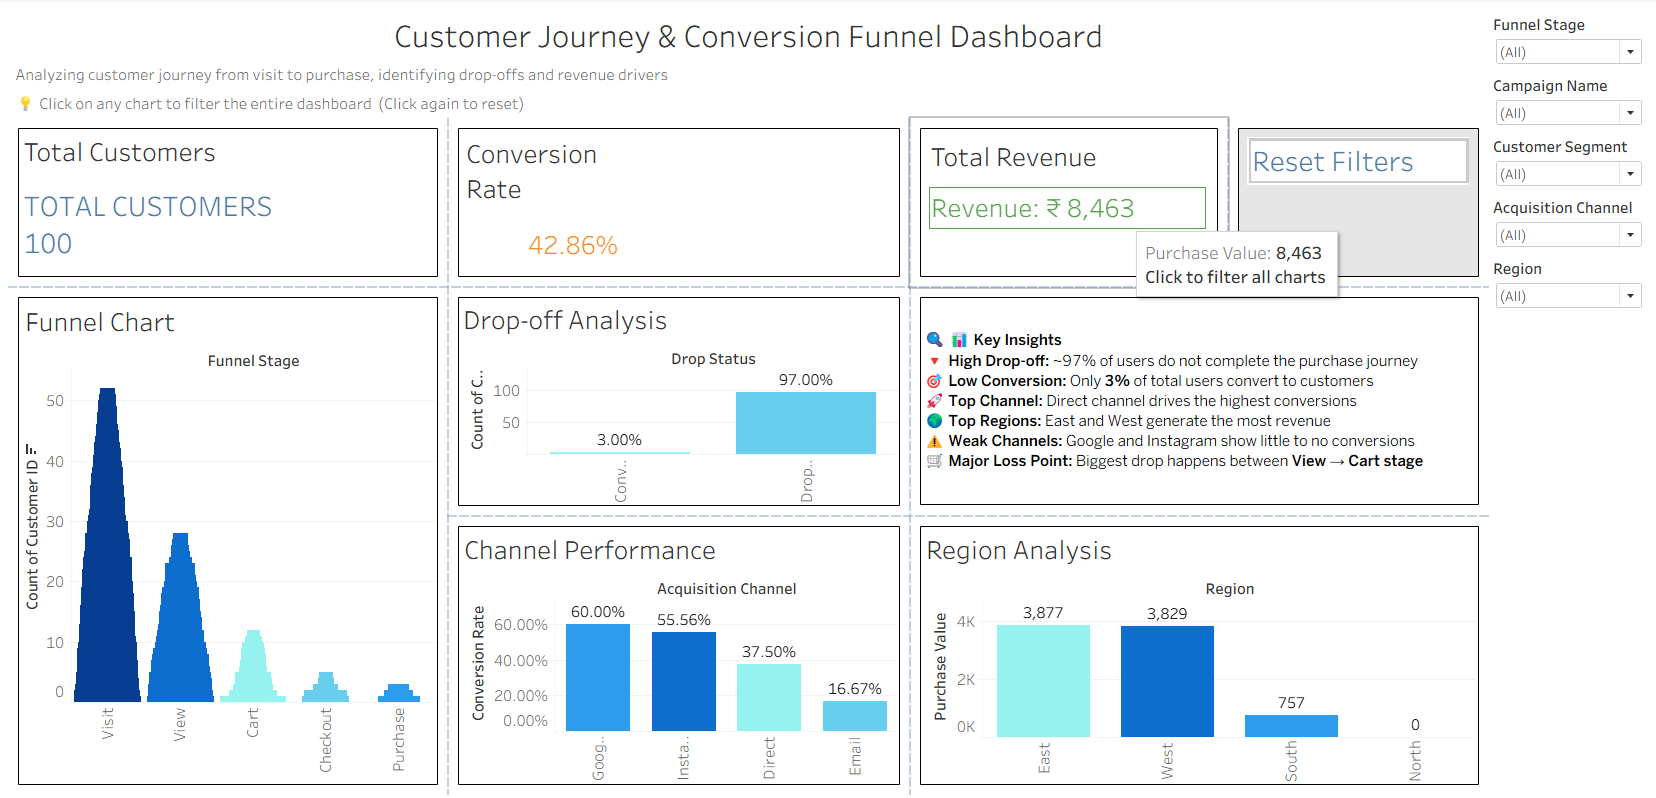

The dashboard page shown, as its layout file describes it:
{"tool":"tableau","page":{"name":"Customer Journey & Conversion Funnel Dashboard","canvas":[1000,1000],"units":"permille","ordinal":0},"visuals":[{"type":"title","box":[4.8,10,893.8,62.4]},{"type":"filter","title":"Conversion Rate","param":"[federated.0fj2pal03l06va1h0yqg00qhf47u].[none:Funnel Stage:nk]","box":[898.6,10,96.6,76.2]},{"type":"text","box":[4.8,72.4,893.8,36.2]},{"type":"filter","title":"Conversion Rate","param":"[federated.0fj2pal03l06va1h0yqg00qhf47u].[none:Campaign Name:nk]","box":[898.6,86.2,96.6,76.2]},{"type":"text","box":[4.8,108.6,893.8,36.2]},{"type":"worksheet","title":"Total Customers","mark":"Text","box":[4.8,144.8,265.8,211.6]},{"type":"worksheet","title":"Conversion Rate","mark":"Automatic","box":[270.6,144.8,278.6,211.3]},{"type":"worksheet","title":"Total Revenue","mark":"Automatic","box":[549.2,144.8,192,211.6]},{"type":"worksheet","title":"Reset Filter","mark":"Text","box":[741.2,144.8,157.4,211.6]},{"type":"filter","title":"Conversion Rate","param":"[federated.0fj2pal03l06va1h0yqg00qhf47u].[none:Customer Segment:nk]","box":[898.6,162.3,96.6,76.2]},{"type":"filter","title":"Conversion Rate","param":"[federated.0fj2pal03l06va1h0yqg00qhf47u].[none:Acquisition Channel:nk]","box":[898.6,238.5,96.6,76.2]},{"type":"filter","title":"Conversion Rate","param":"[federated.0fj2pal03l06va1h0yqg00qhf47u].[none:Region:nk]","box":[898.6,314.6,96.6,76.2]},{"type":"worksheet","title":"Drop-off Analysis","mark":"Automatic","rows":["Customer ID"],"cols":["Calculation_1541356983917412354"],"box":[270.6,356.1,278.6,285.5]},{"type":"worksheet","title":"Funnel Chart","mark":"Bar","rows":["Customer ID"],"cols":["Funnel Stage"],"box":[4.8,356.4,265.8,633.6]},{"type":"text","box":[549.2,356.4,349.4,285.2]},{"type":"worksheet","title":"Channel Performance","mark":"Automatic","rows":["Calculation_1541356983909969921"],"cols":["Acquisition Channel"],"box":[270.6,641.6,278.6,348.4]},{"type":"worksheet","title":"Region Analysis","mark":"Automatic","rows":["Purchase Value"],"cols":["Region"],"box":[549.2,641.6,349.4,348.4]}]}

Visuals, with their boxes on the dashboard's canvas, which has no fixed pixel size, in thousandths of its width and height (x1, y1, x2, y2). These are canvas units, not pixel positions in the 1656x798 screenshot, which may show the page scaled, cropped or inside an application window:
title: <bbox>5, 10, 899, 72</bbox>
"Conversion Rate" filter: <bbox>899, 10, 995, 86</bbox>
text: <bbox>5, 72, 899, 109</bbox>
"Conversion Rate" filter: <bbox>899, 86, 995, 162</bbox>
text: <bbox>5, 109, 899, 145</bbox>
"Total Customers" worksheet (Text marks): <bbox>5, 145, 271, 356</bbox>
"Conversion Rate" worksheet: <bbox>271, 145, 549, 356</bbox>
"Total Revenue" worksheet: <bbox>549, 145, 741, 356</bbox>
"Reset Filter" worksheet (Text marks): <bbox>741, 145, 899, 356</bbox>
"Conversion Rate" filter: <bbox>899, 162, 995, 238</bbox>
"Conversion Rate" filter: <bbox>899, 238, 995, 315</bbox>
"Conversion Rate" filter: <bbox>899, 315, 995, 391</bbox>
"Drop-off Analysis" worksheet: <bbox>271, 356, 549, 642</bbox>
"Funnel Chart" worksheet (Bar marks): <bbox>5, 356, 271, 990</bbox>
text: <bbox>549, 356, 899, 642</bbox>
"Channel Performance" worksheet: <bbox>271, 642, 549, 990</bbox>
"Region Analysis" worksheet: <bbox>549, 642, 899, 990</bbox>
